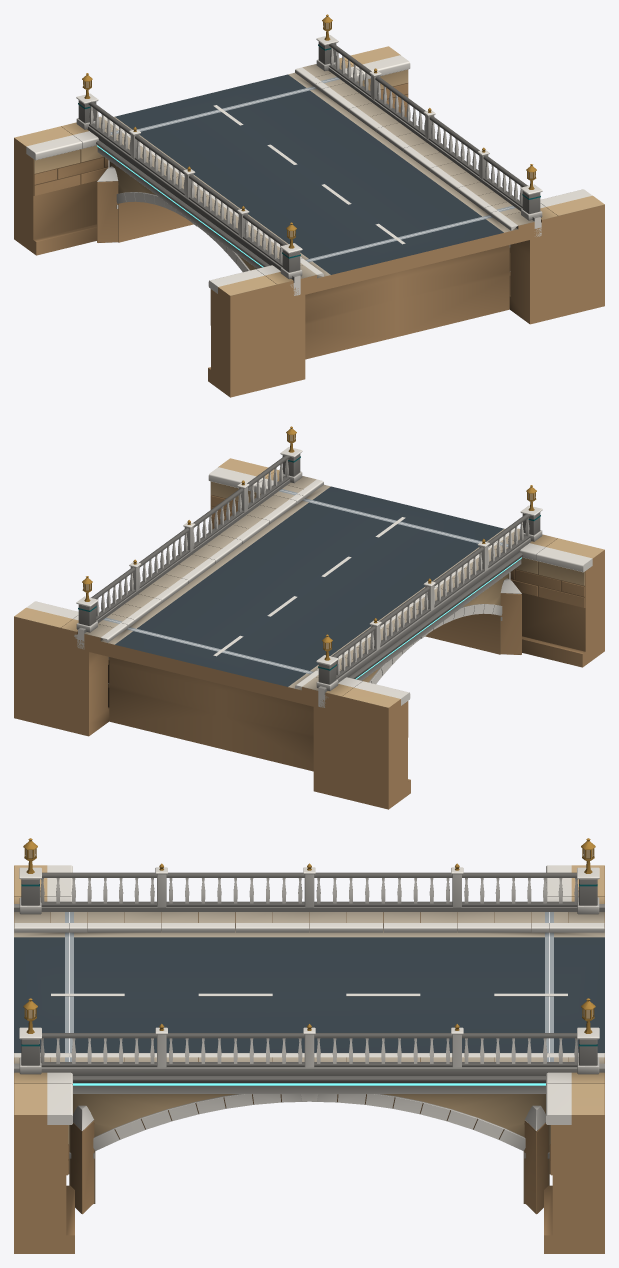
File: bridge_span.fbx
The picture shows the model from 3 angles, top to bottom: view 1: azimuth 30°, elevation 25°; view 2: azimuth 150°, elevation 25°; view 3: azimuth 270°, elevation 25°; orthographic projection. The views are drawn at different scales.
Visible parts, largest first — view 1: bridge_span; view 2: bridge_span; view 3: bridge_span.
Boxes of the visible parts, bbox=[...] form: bridge_span: bbox=[14, 14, 604, 397]; bridge_span: bbox=[14, 426, 604, 809]; bridge_span: bbox=[14, 838, 604, 1253].
Bounding box in the file's own units: 16 × 6.3 × 16.
